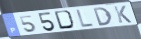5: (37, 11, 56, 32), (18, 15, 37, 33)
D: (53, 10, 77, 30), (92, 7, 114, 27)
K: (113, 5, 133, 24)
L: (75, 9, 95, 28)
